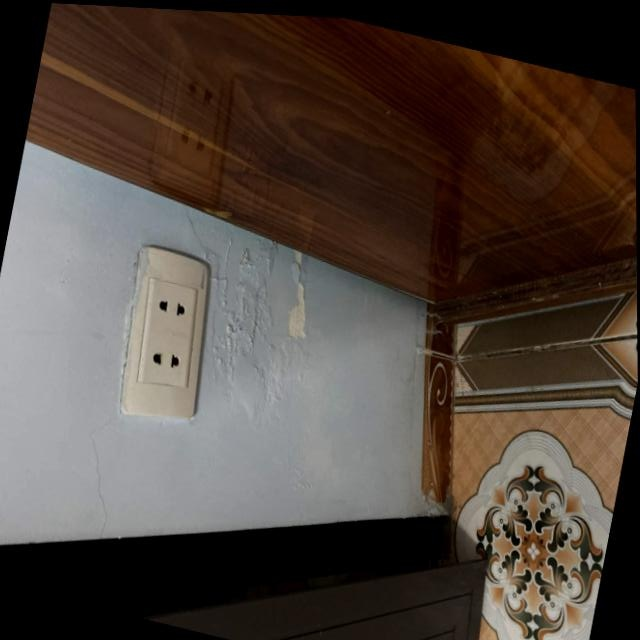outlet: (107, 241, 225, 433)
